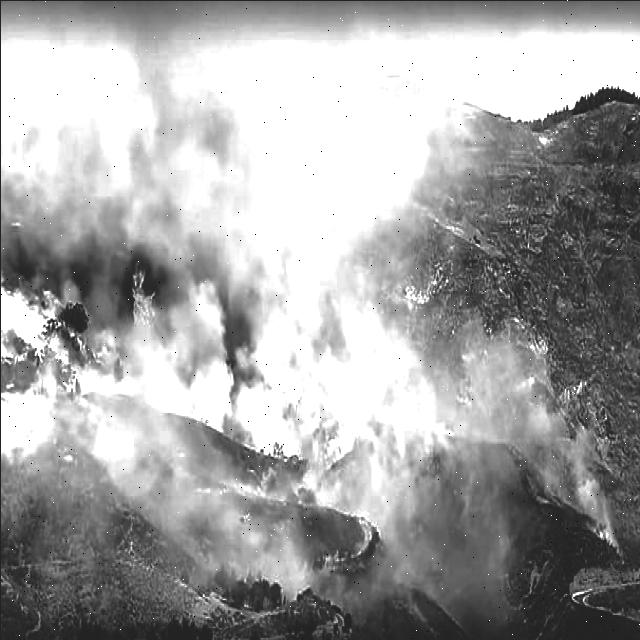api: (131, 256, 155, 329)
asap: (1, 1, 535, 634), (457, 312, 629, 577)
